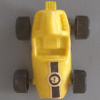amarillo: (16, 3, 87, 98)
